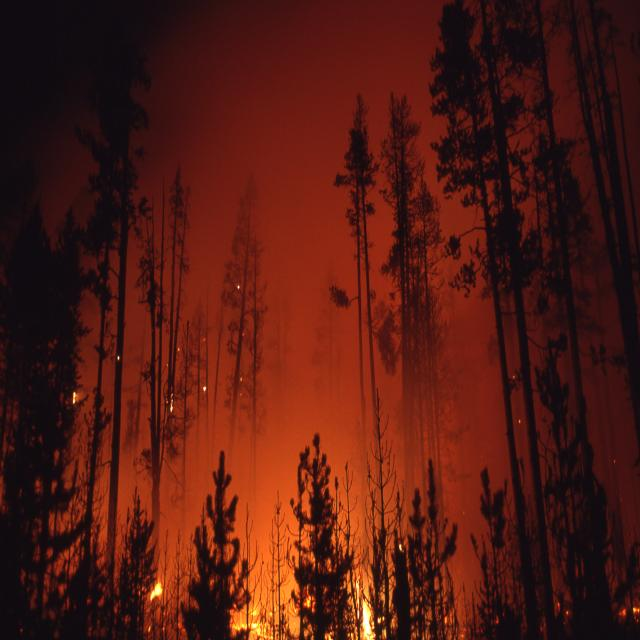Fire: (88, 550, 447, 640)
Smoke: (68, 120, 446, 596)
